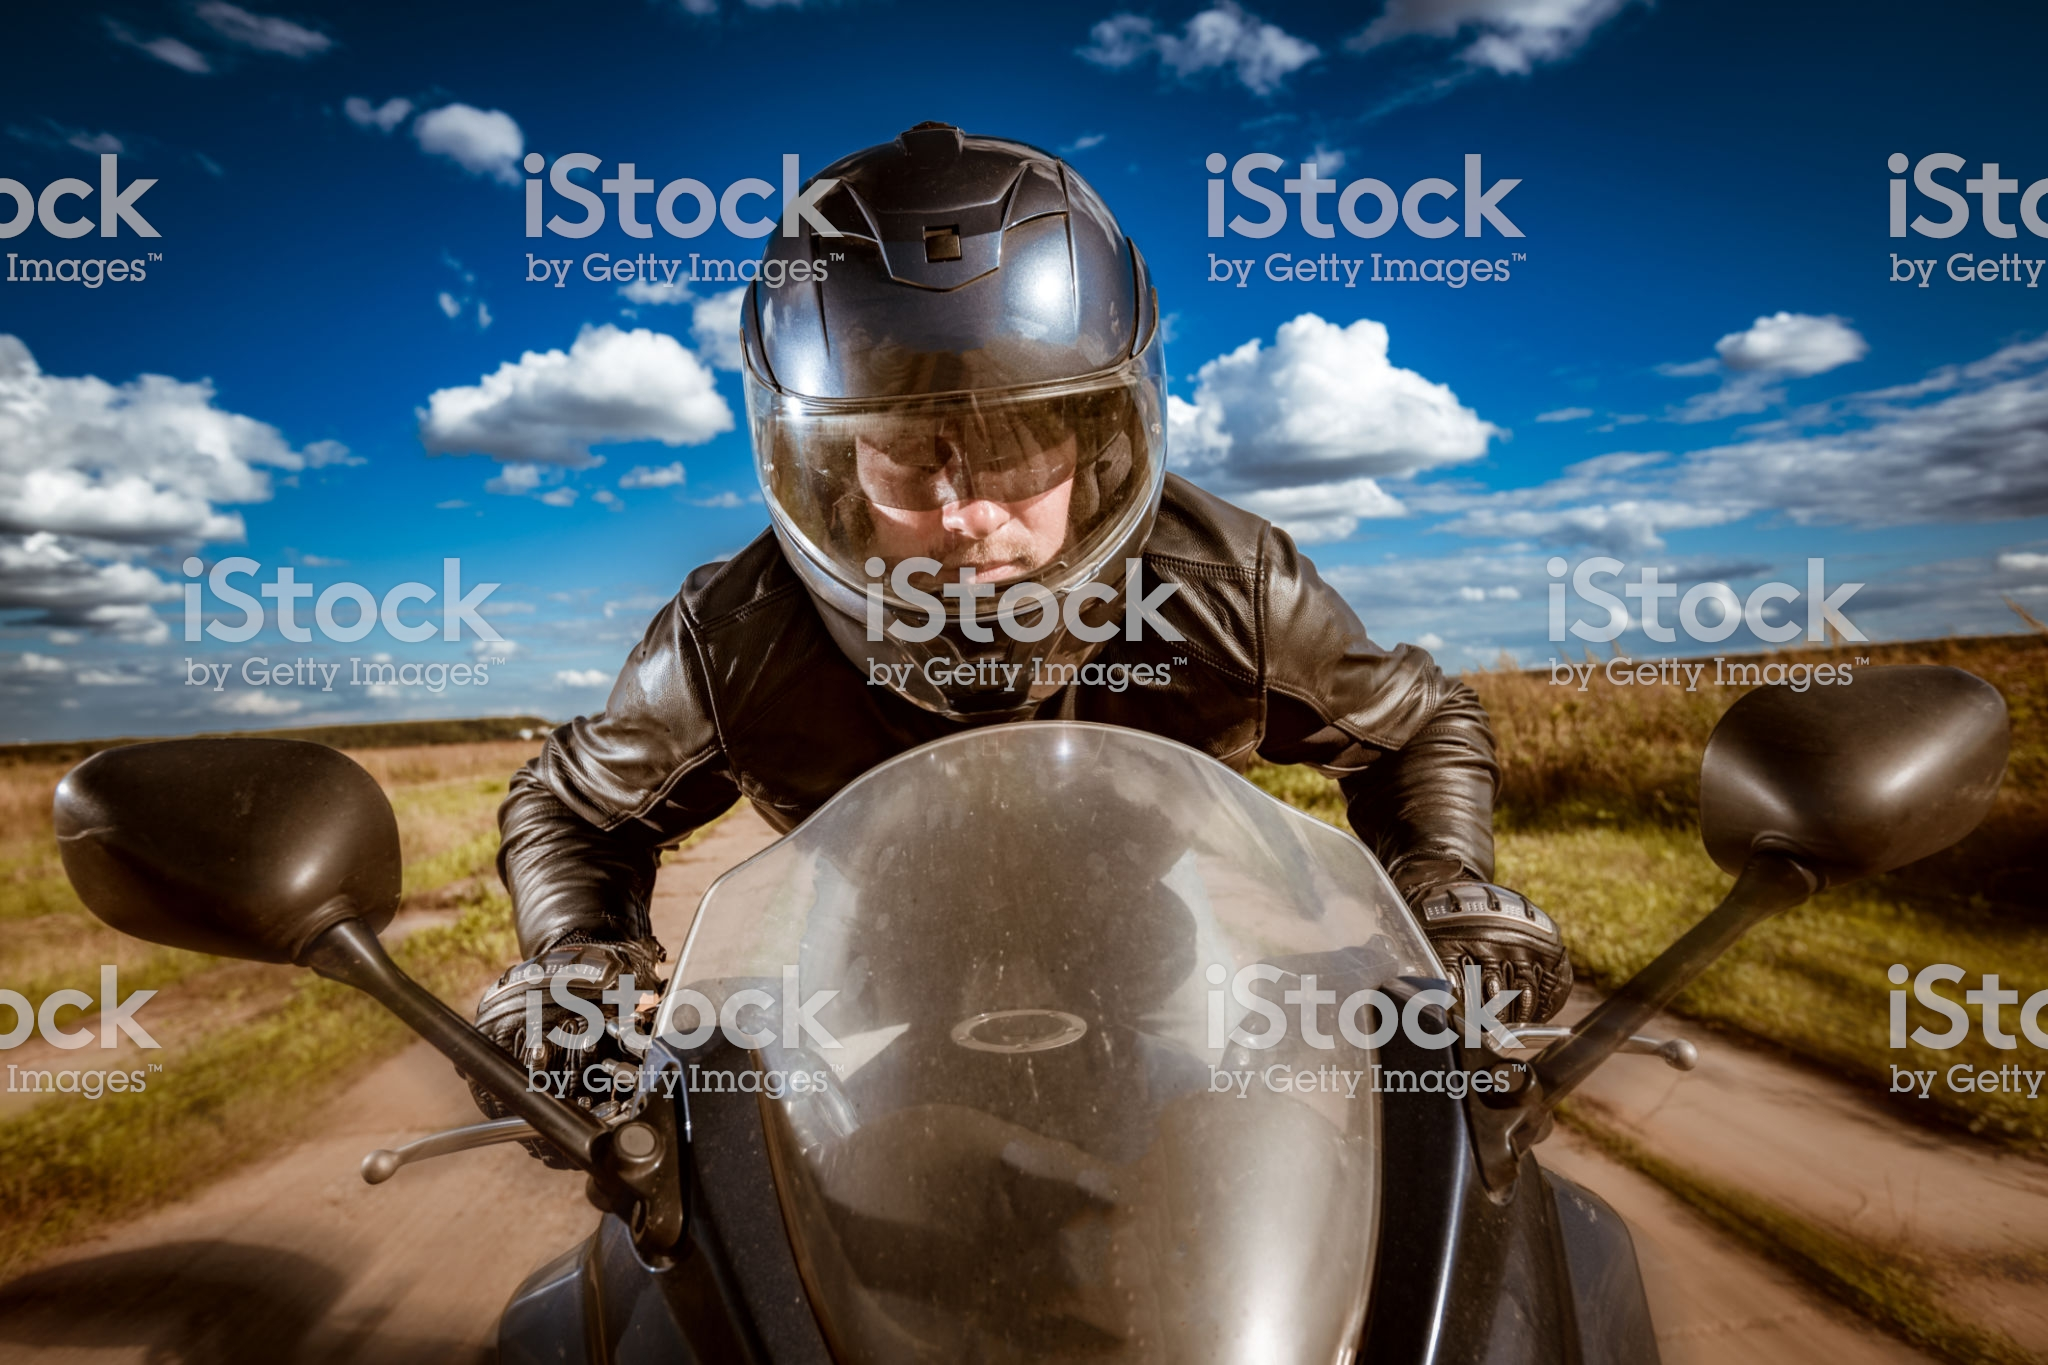helmet: (745, 125, 1230, 681)
